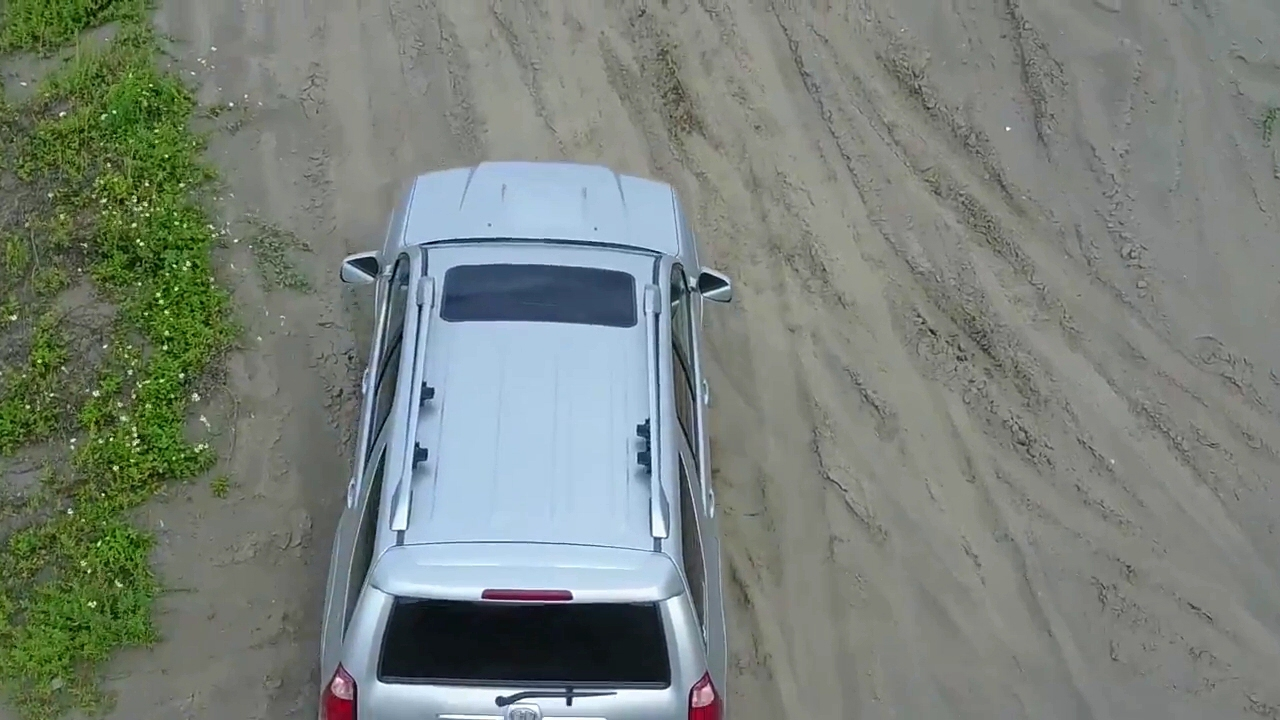araba: (314, 156, 737, 720)
